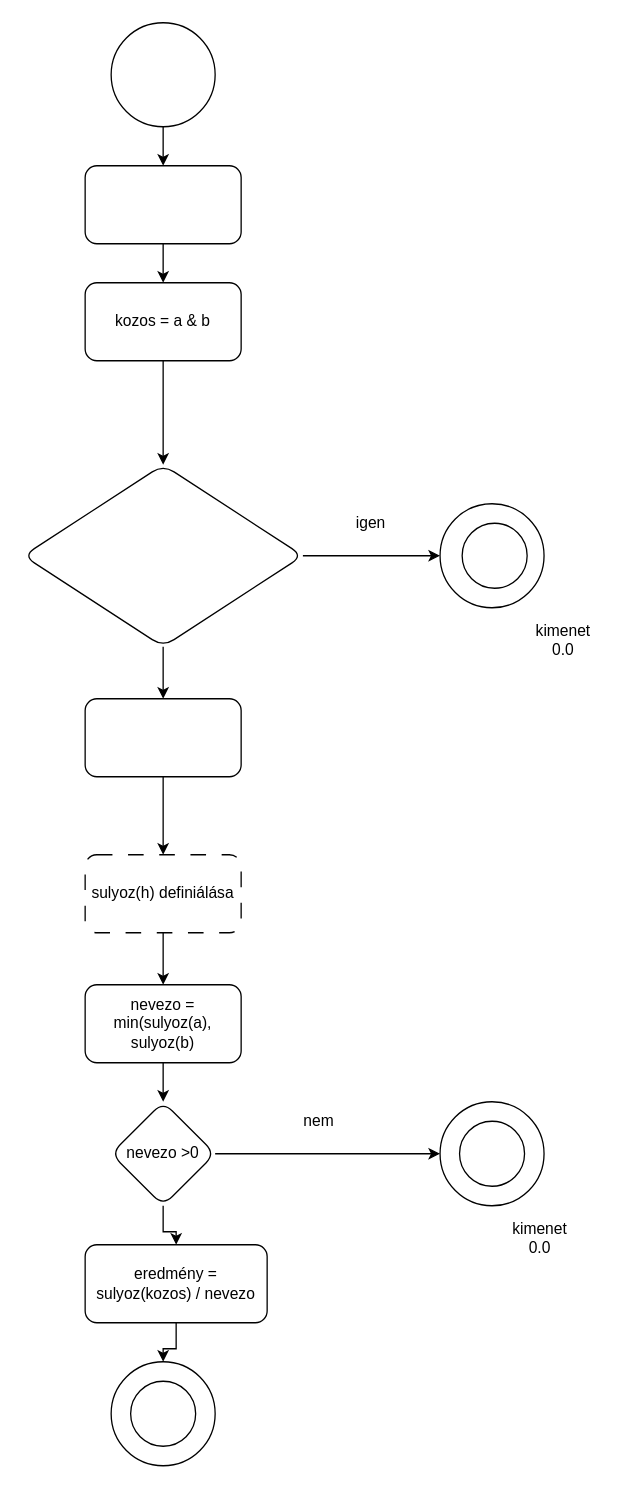
The diagram is 624 pixels wide and 1489 high, and some of its shapes have lost their labels. Here are the shapes that lost their labels. From the top down, the centre of each, then its label:
the point at 162,204: Bemenet: a, b (frozenset[str]); idf (dict
the point at 162,555: kozos üres?
the point at 162,737: alap = max(idf.values(), default=1
